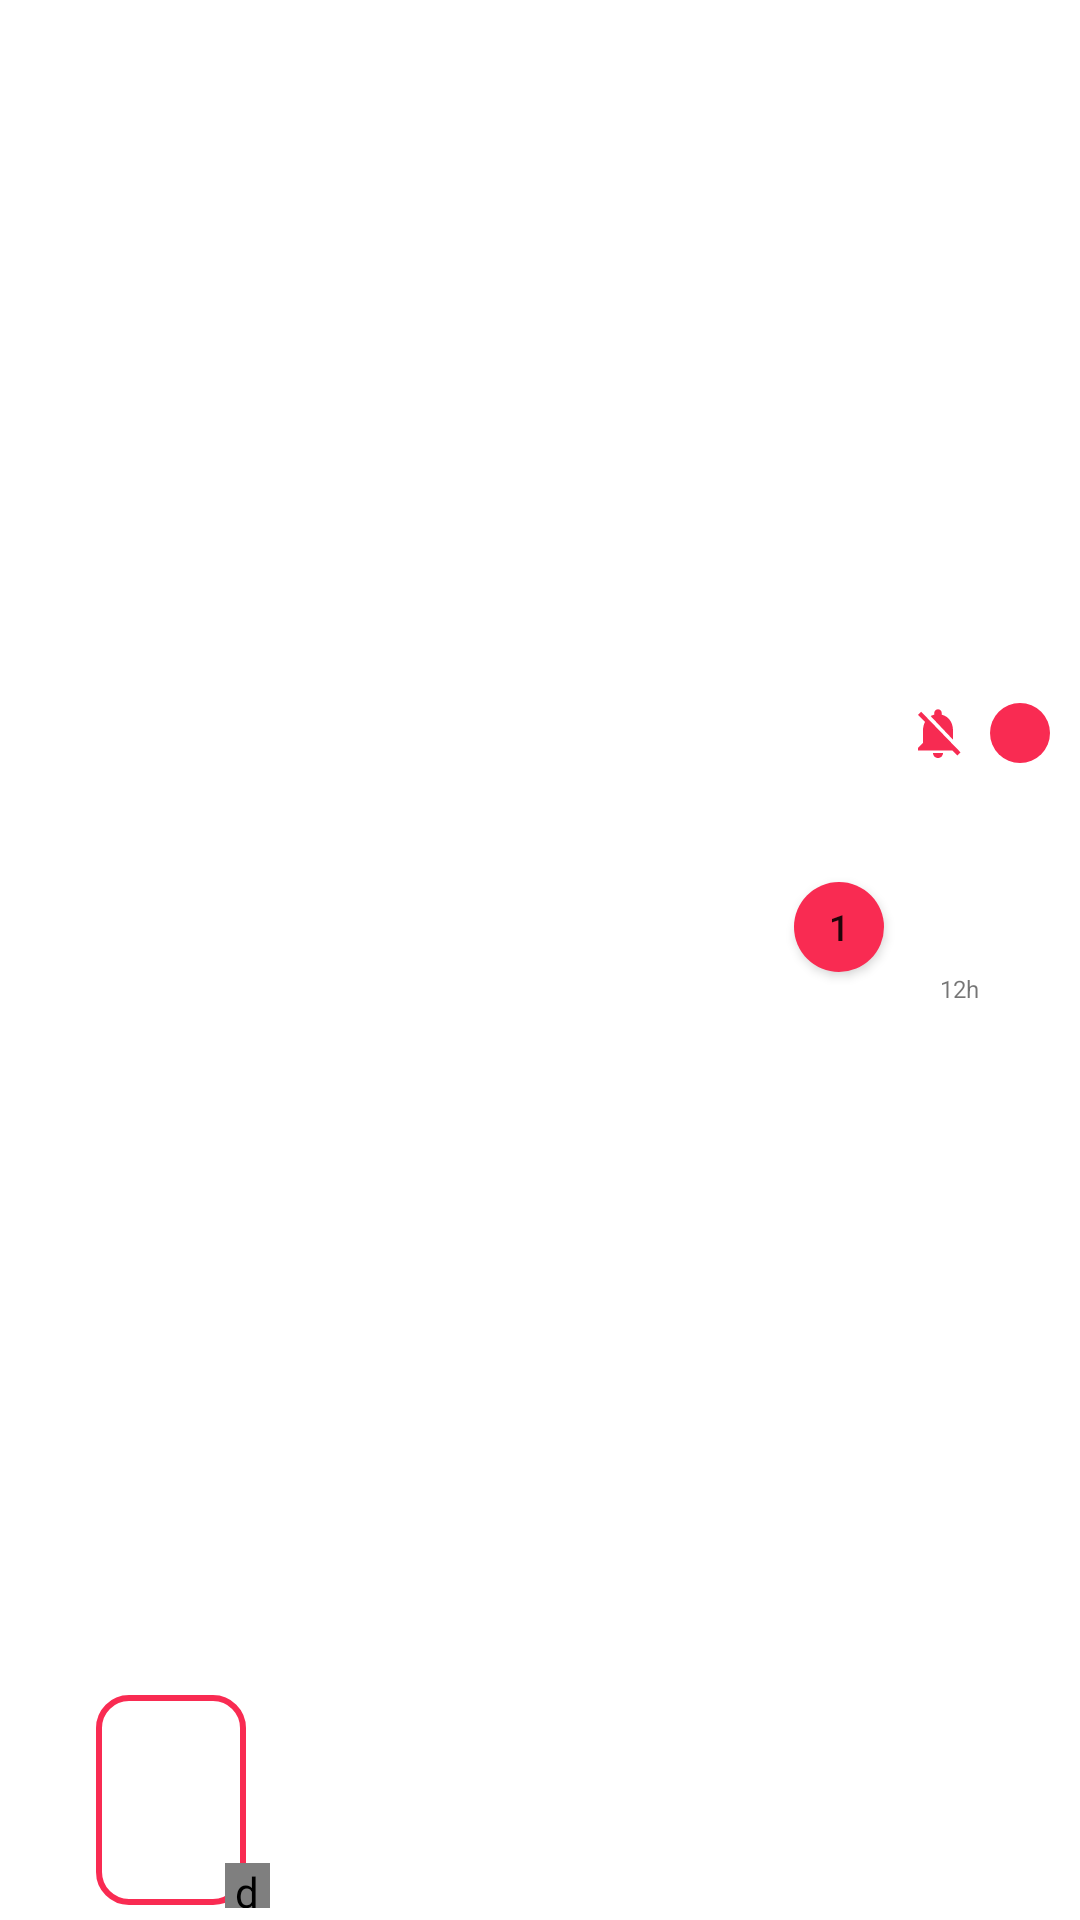

Icon bounding boxes for this 1080px x 1920px phone screenshot, format bbox=(x1, y1, x2, y2):
notification off: bbox=(918, 709, 961, 758)
